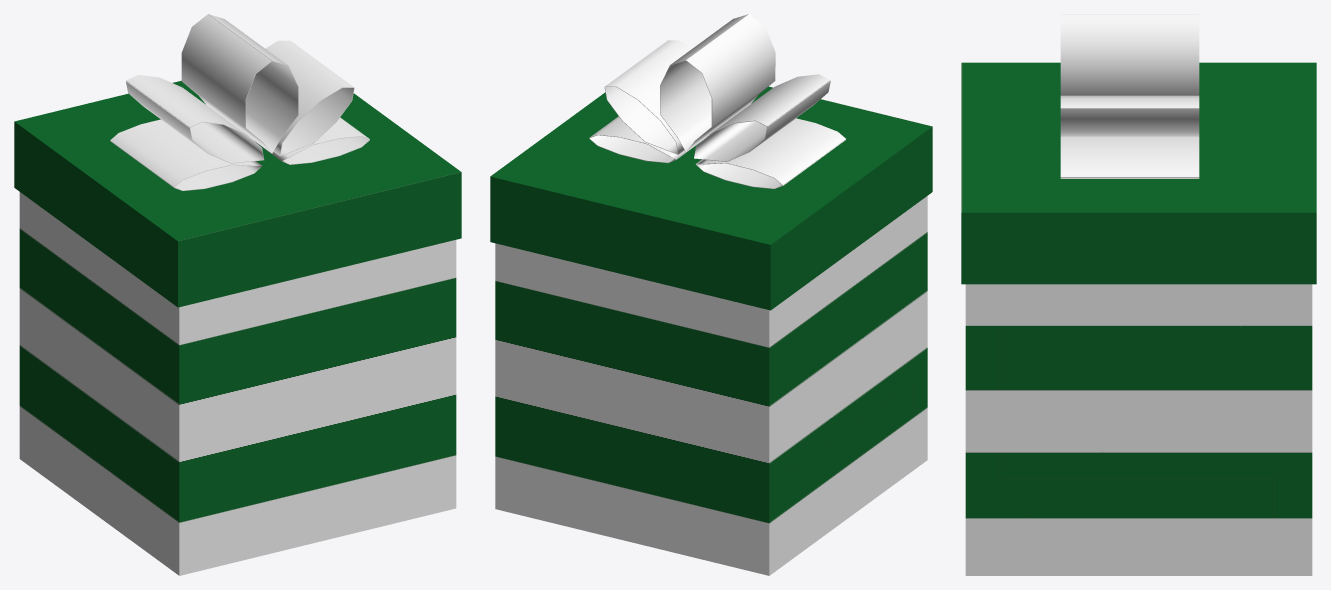
The model's file is present_striped_ver1.fbx.
The picture shows the model from 3 angles, left to right: view 1: azimuth 30°, elevation 25°; view 2: azimuth 150°, elevation 25°; view 3: azimuth 270°, elevation 25°; orthographic projection. The views are drawn at different scales.
Visible parts, largest first — view 1: Box, Top; view 2: Box, Top; view 3: Box, Top.
Part boxes in pixels (<box>): Box: <box>19,192,456,575</box>; Top: <box>14,14,461,307</box>; Box: <box>495,196,927,575</box>; Top: <box>490,14,932,310</box>; Box: <box>965,284,1312,575</box>; Top: <box>961,14,1316,284</box>.
Size of the model in its own units: 10.24 by 15.52 by 10.24.
